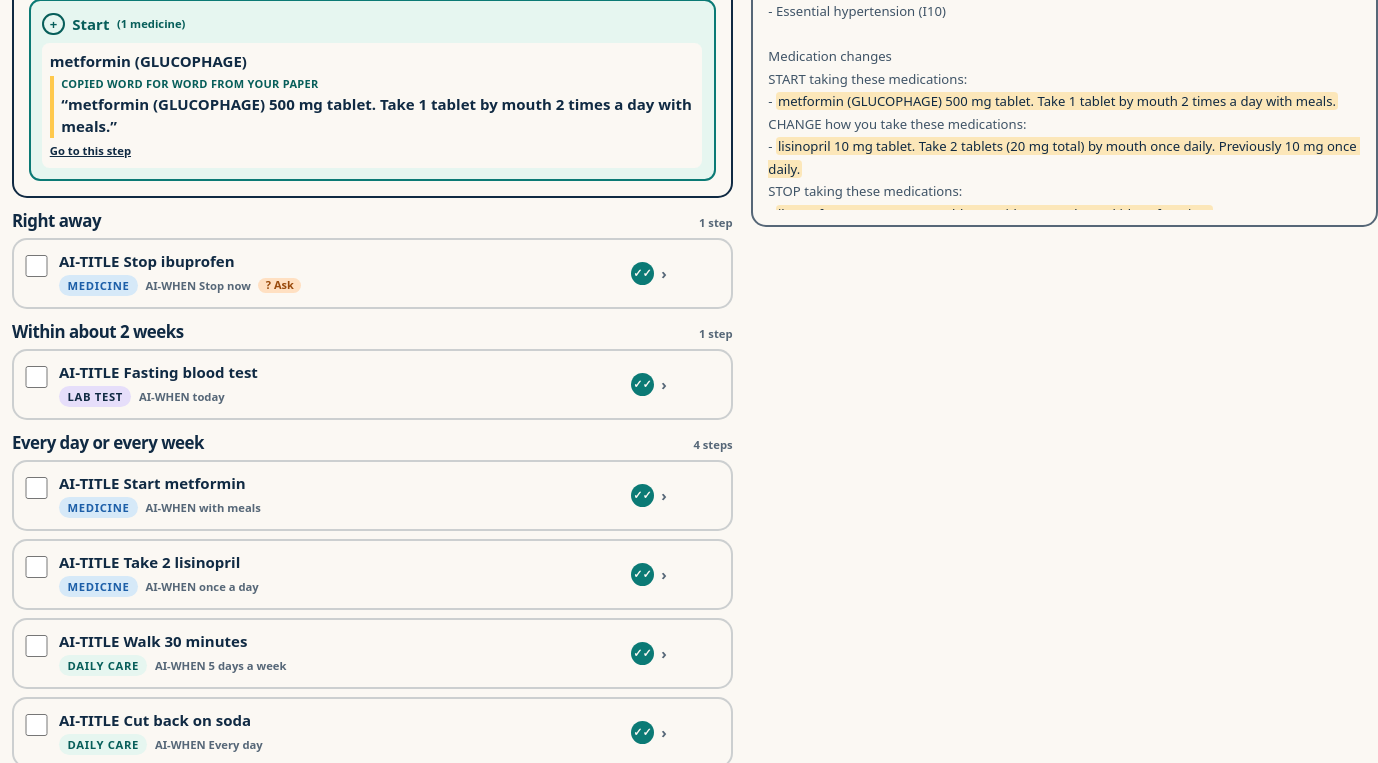
Test: the expanded step › certified: the explanation, then the paper's words
(page scrolled)
Click the button "AI-TITLE Fasting blood test Lab test AI-WHEN today ✓✓ ›" at [158, 372], box [59,362,667,407]
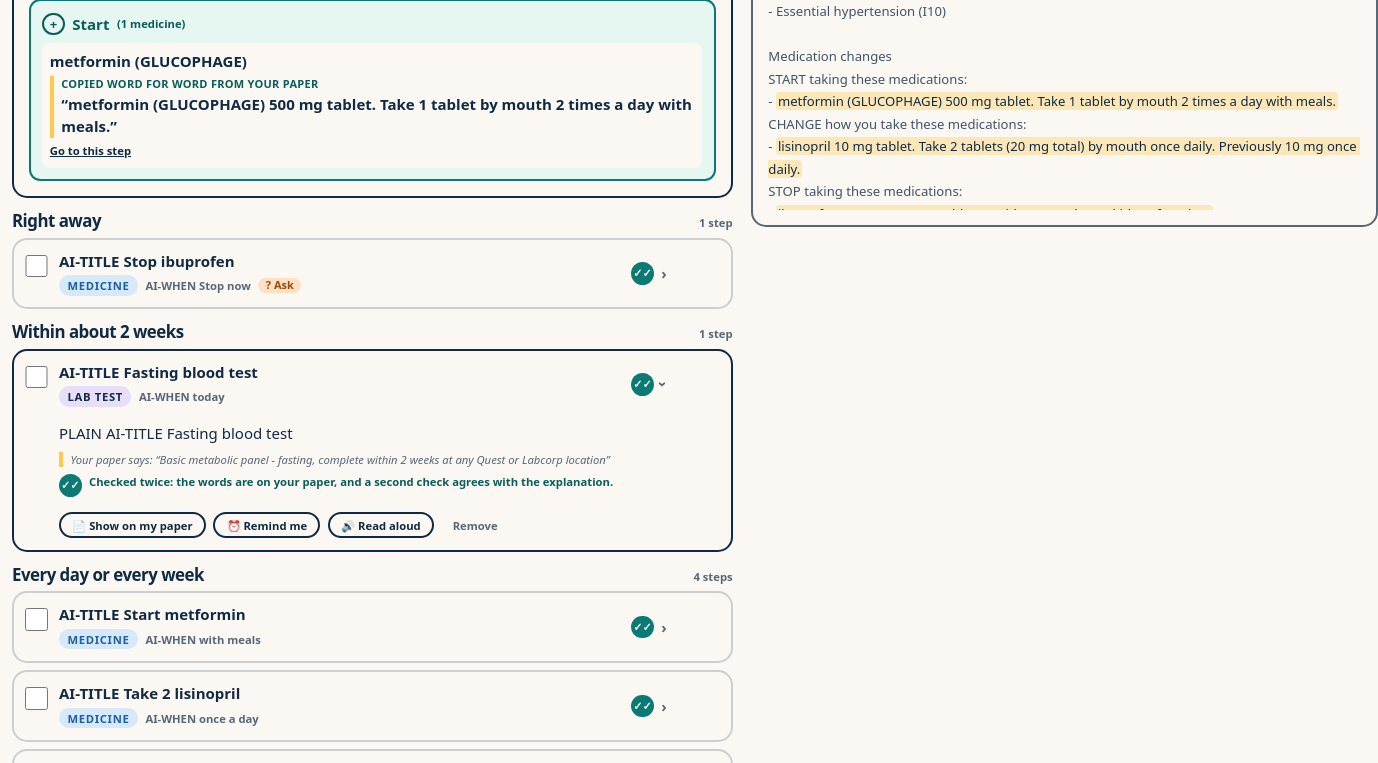
Check: the element that starts with "Your paper says:" shows "Basic metabolic panel - fasting, complete within 2 weeks at any Quest or Labcorp location", box [160,452,606,467]
